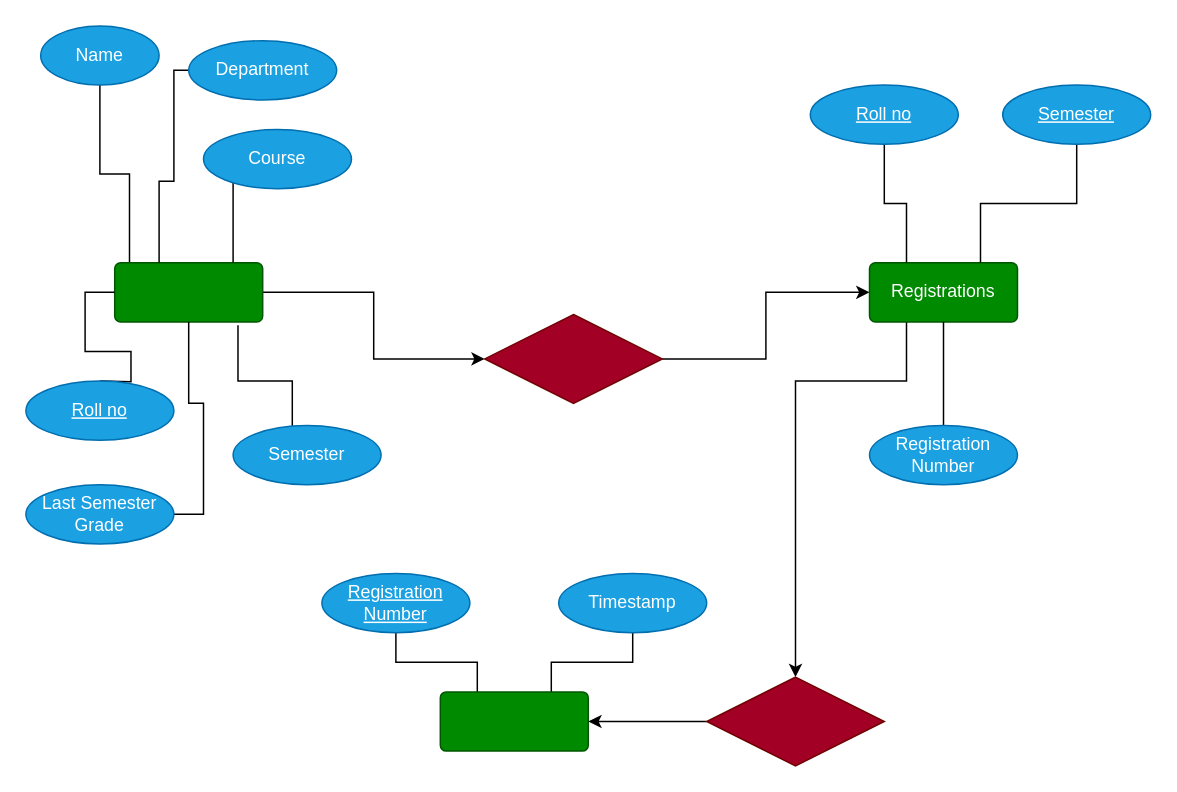
The diagram is 1177 pixels wide and 792 high, and some of its shapes have lost their labels. The box of each missing label's shape, as (x1, y1, x2, y2) in pixels:
Log: (439, 690, 588, 751)
Register: (483, 313, 662, 403)
Student Data: (113, 261, 263, 322)
Update: (705, 676, 884, 766)
